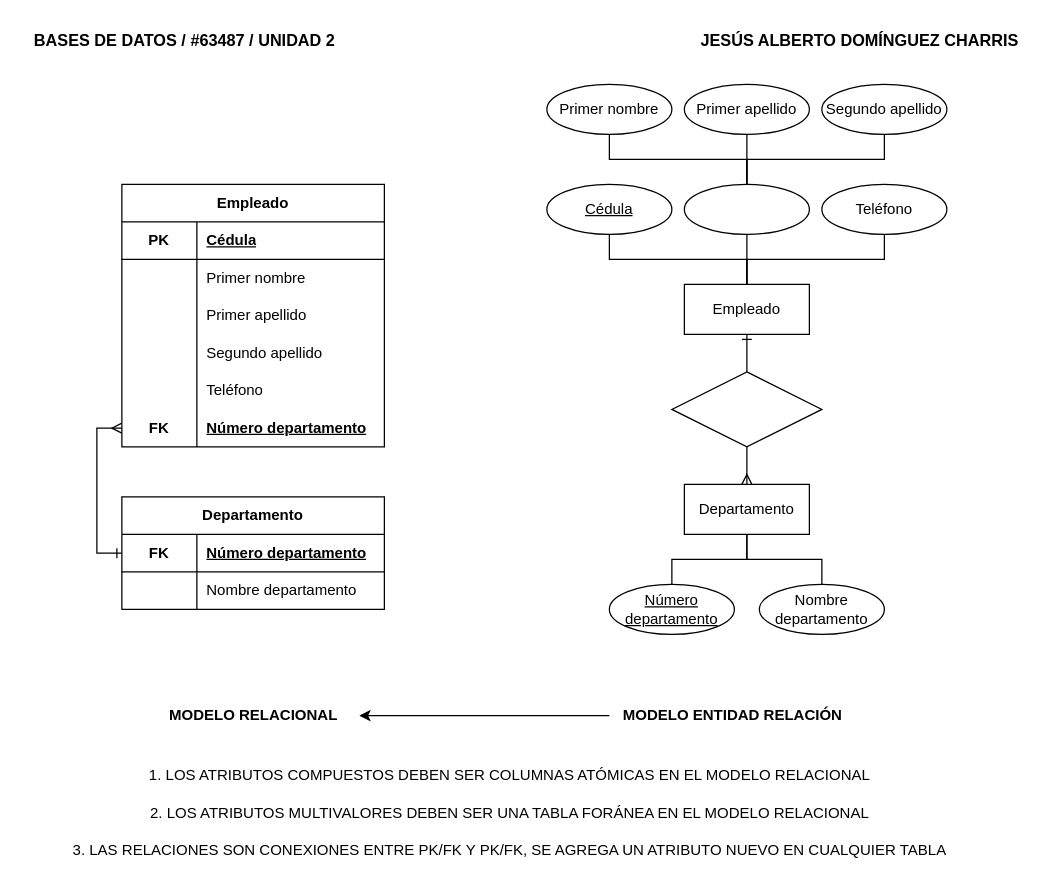
Image size: 1055x890. Some labels were removed from this diagram. The box of each missing label's shape, as (x1, y1, x2, y2) in pixels:
Nombre: (683, 183, 809, 234)
pertenece a: (671, 371, 822, 447)
